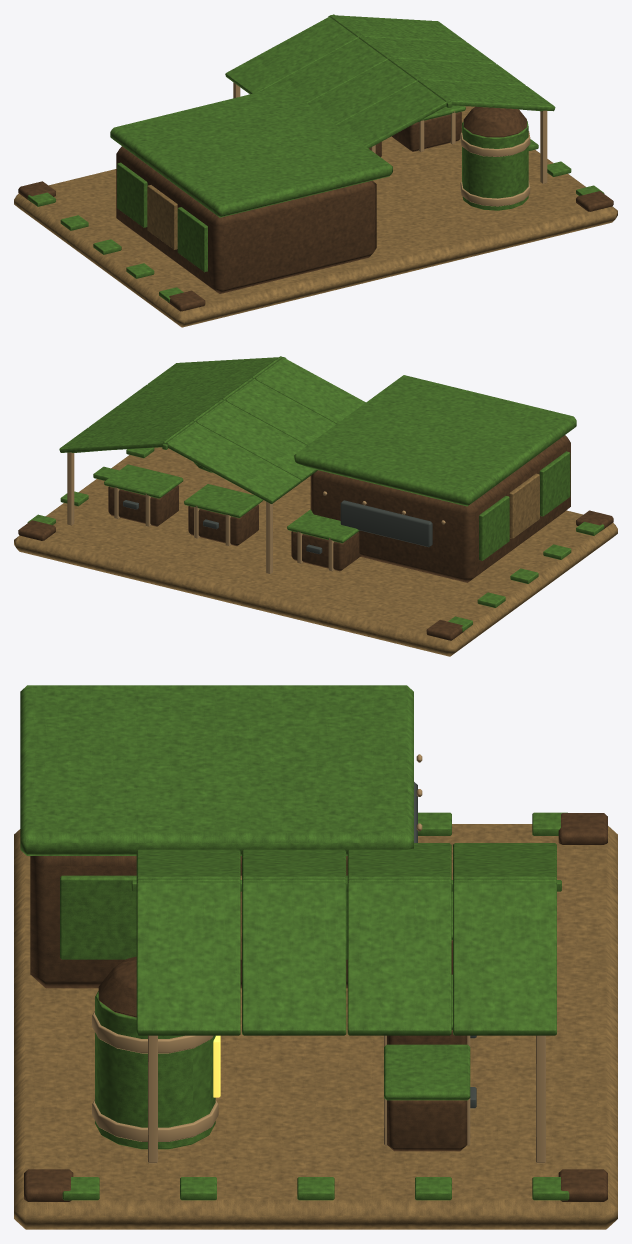
File: vael_caravanserail.gltf
3 views of the same model, one above another, from view 1: azimuth 30°, elevation 25°; view 2: azimuth 150°, elevation 25°; view 3: azimuth 270°, elevation 25° (orthographic). The views are drawn at different scales.
Visible parts, largest first — view 1: Root.017_Geometry; view 2: Root.017_Geometry; view 3: Root.017_Geometry.
Part boxes in pixels (x1,y1,x2,y2): Root.017_Geometry: [14, 14, 617, 327]; Root.017_Geometry: [14, 356, 617, 656]; Root.017_Geometry: [14, 685, 617, 1229].
Size of the model in its own units: 5.91 by 1.69 by 3.91.
6 materials, 3 textured.
